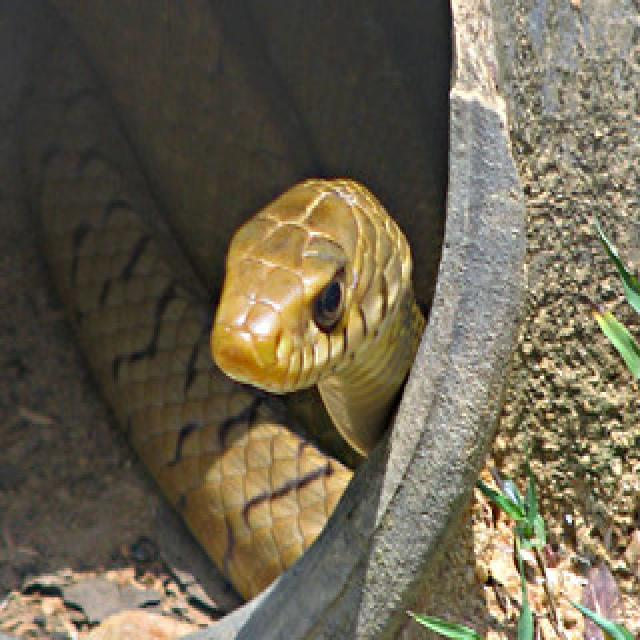Snake: (8, 0, 422, 581)
